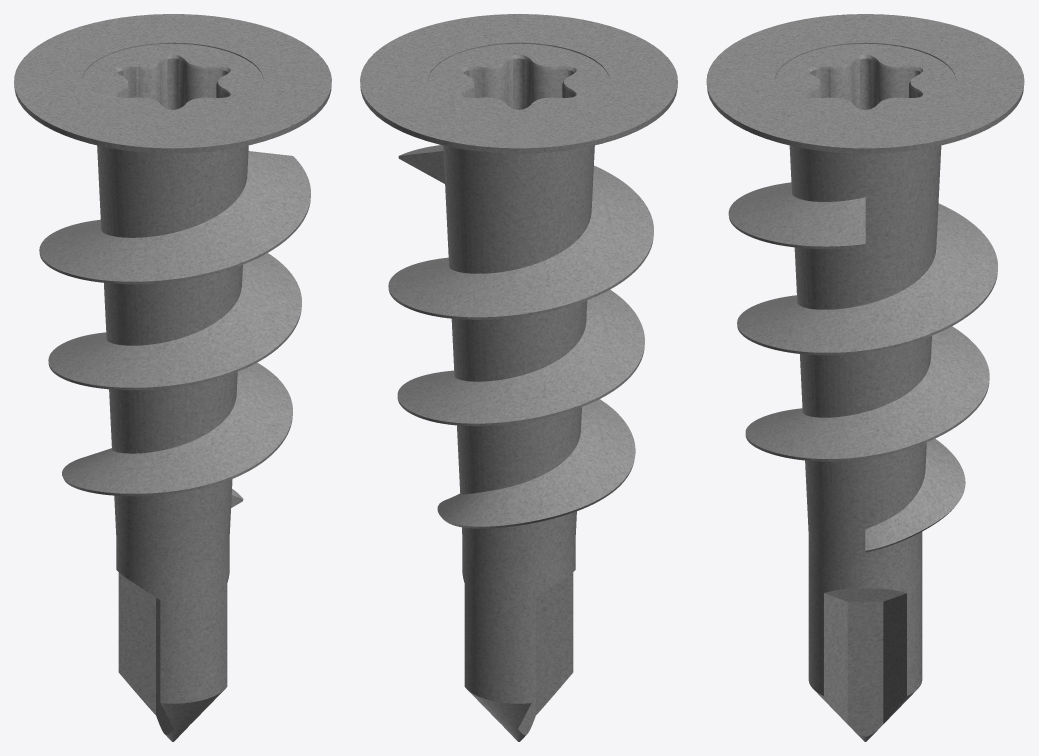
The model's file is dpn-material.glb.
The picture shows the model from 3 angles, left to right: view 1: azimuth 30°, elevation 25°; view 2: azimuth 150°, elevation 25°; view 3: azimuth 270°, elevation 25°; orthographic projection.
Parts seen in each view (by area): view 1: A_MAIN_BODY; view 2: A_MAIN_BODY; view 3: A_MAIN_BODY.
Boxes of the visible parts, x1=… form: A_MAIN_BODY: x1=14, y1=14, x2=331, y2=741; A_MAIN_BODY: x1=360, y1=14, x2=677, y2=741; A_MAIN_BODY: x1=706, y1=14, x2=1024, y2=741.
Size of the model in its own units: 0.014 by 0.0321 by 0.014.
1 material, 1 textured.
